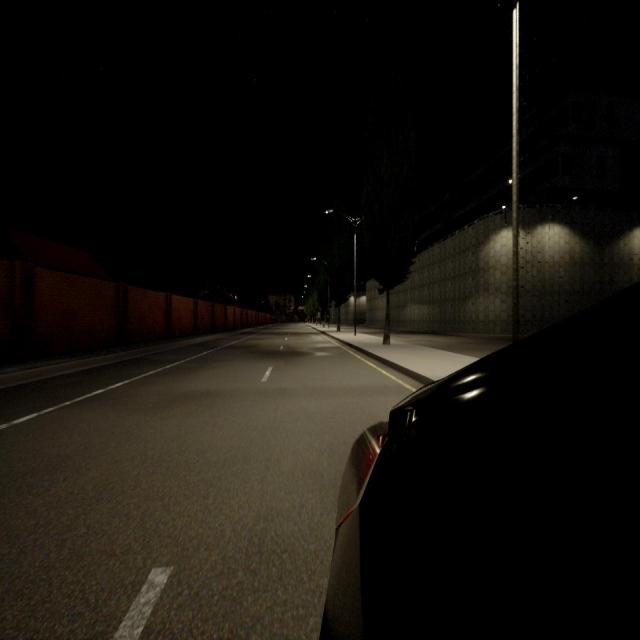Vehicle: (323, 297, 640, 638)
